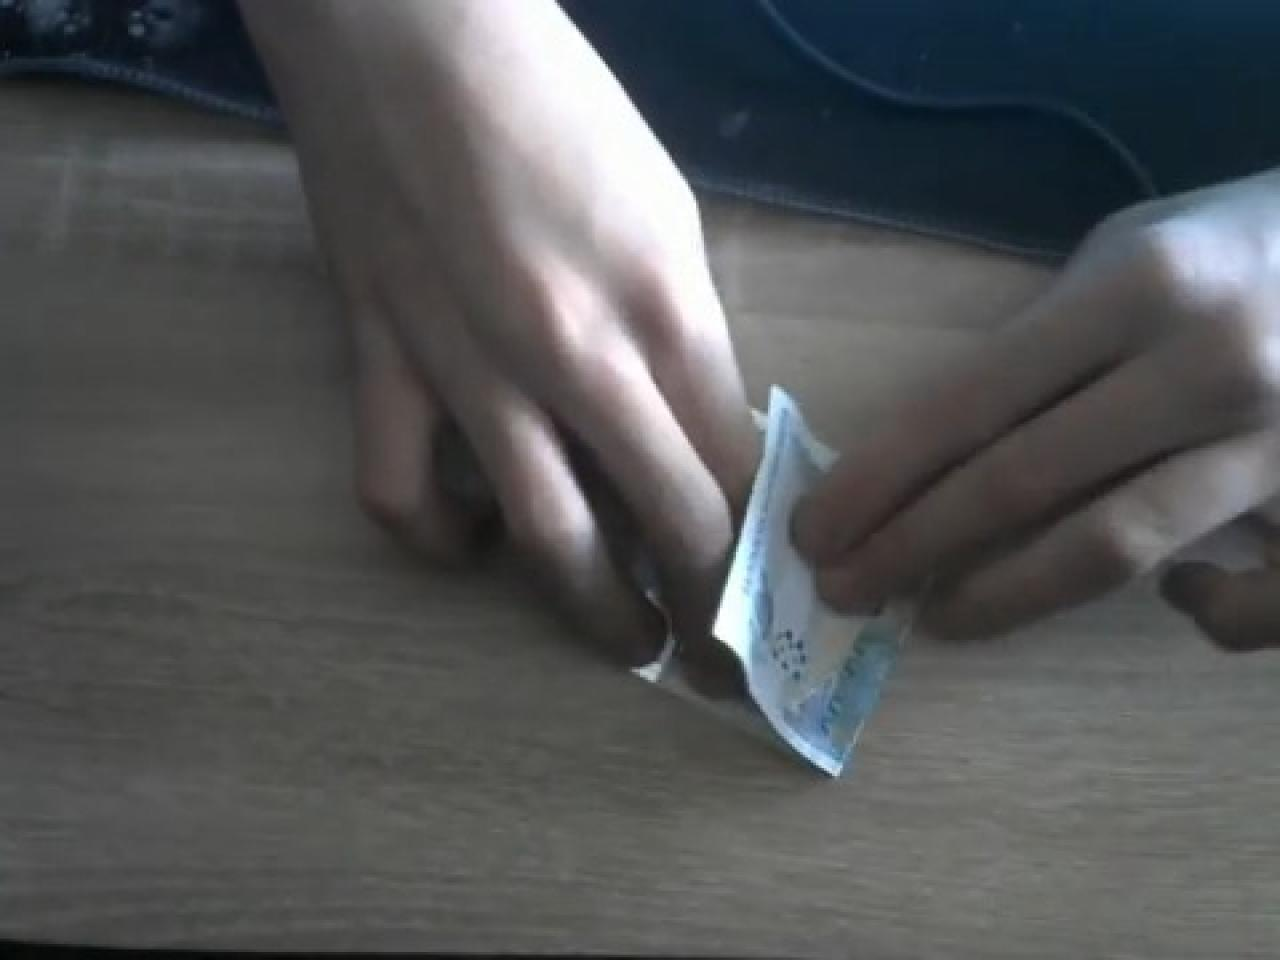20leva: (701, 381, 930, 778)
